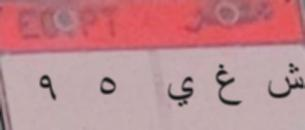5: (97, 75, 120, 97)
9: (36, 69, 60, 104)
ghayn: (212, 60, 247, 116)
sheen: (261, 59, 305, 103)
yaa: (162, 72, 199, 109)
